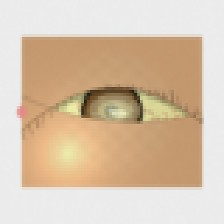corneal_ulcer: (87, 88, 143, 133)
